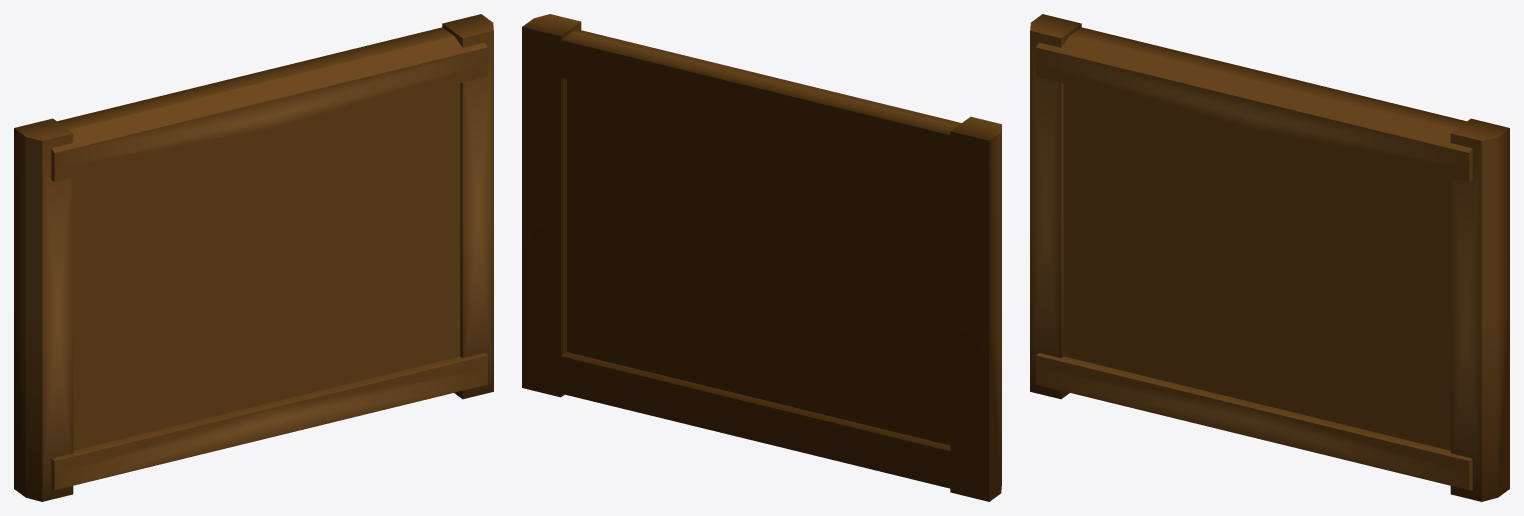
The model's file is H&J_PanelRondas.fbx.
3 views of the same model, side by side, from view 1: azimuth 30°, elevation 25°; view 2: azimuth 150°, elevation 25°; view 3: azimuth 330°, elevation 25° (orthographic).
Parts seen in each view (by area): view 1: PanelRondas; view 2: PanelRondas; view 3: PanelRondas.
Boxes of the visible parts, left/top/right/bottom form: PanelRondas: left=14, top=14, right=493, bottom=501; PanelRondas: left=522, top=14, right=1001, bottom=501; PanelRondas: left=1030, top=14, right=1509, bottom=501.
Bounding box in the file's own units: 79.84 × 58.94 × 7.
